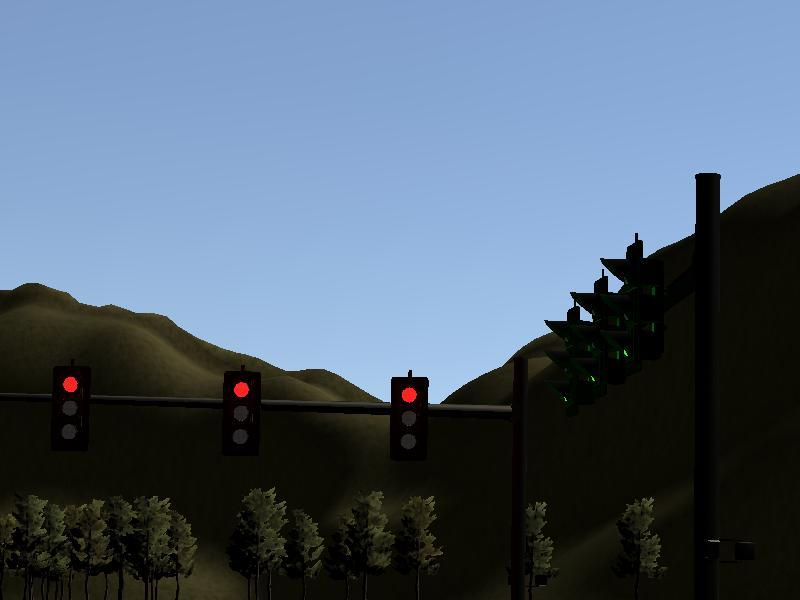Red: (50, 365, 90, 449), (388, 376, 428, 460), (221, 370, 261, 454)
